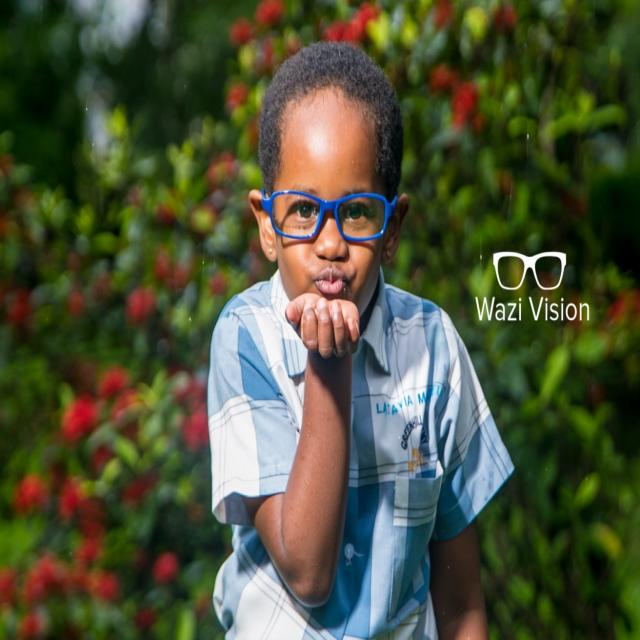Glasses: (261, 186, 397, 245)
